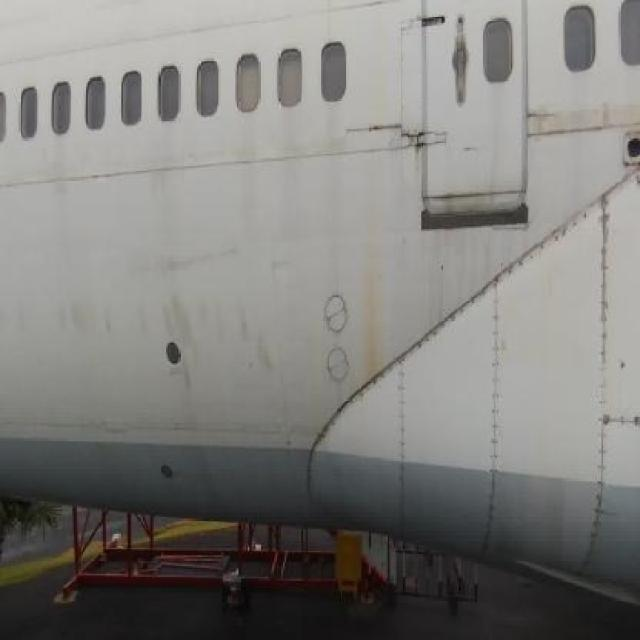Missing-Rivet: (592, 186, 630, 565), (503, 209, 589, 296), (407, 288, 484, 359), (485, 270, 503, 530), (329, 365, 393, 426), (393, 351, 412, 512)
Rust: (349, 179, 393, 384), (399, 95, 438, 179)
Scartch: (46, 294, 294, 400), (130, 234, 252, 291), (525, 98, 618, 160), (264, 230, 301, 292)
